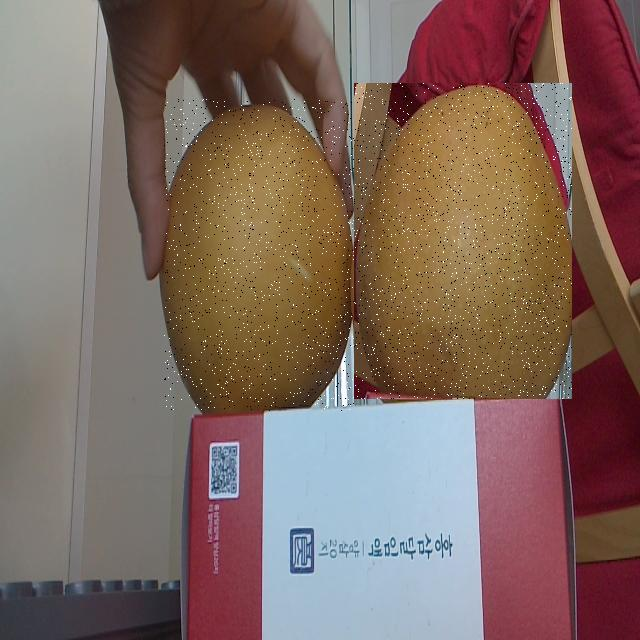pear: (354, 83, 572, 399), (164, 99, 355, 411)
